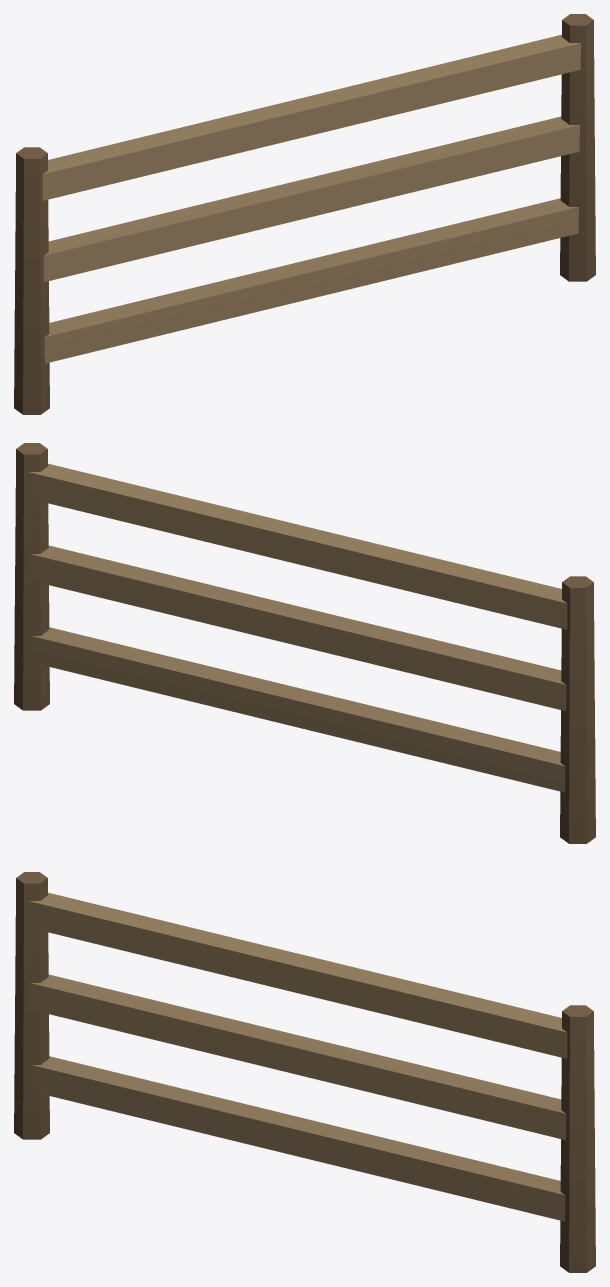
Rendered from gate.glb.
The picture shows the model from 3 angles, top to bottom: view 1: azimuth 30°, elevation 25°; view 2: azimuth 150°, elevation 25°; view 3: azimuth 330°, elevation 25°; orthographic projection.
Visible parts, largest first — view 1: gate; view 2: gate; view 3: gate.
Part boxes in pixels (x1,y1,x2,y2): gate: (14,14,595,414); gate: (14,443,595,843); gate: (14,872,595,1272).
Size of the model in its own units: 2.94 by 1.25 by 0.16.
